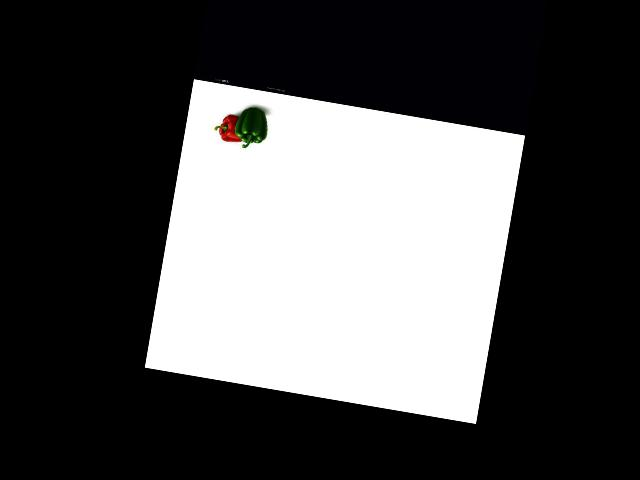bell_pepper: (212, 113, 246, 147)
